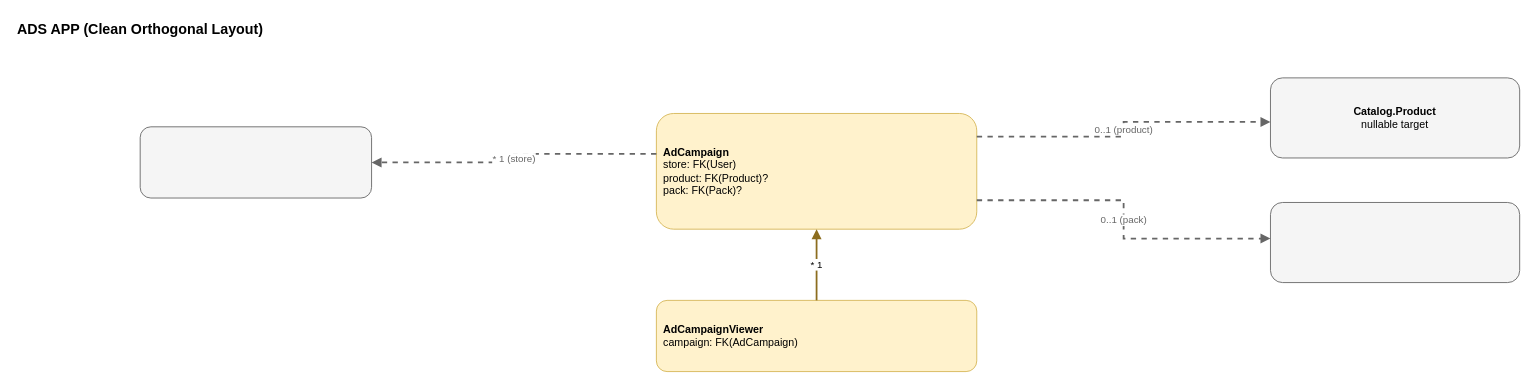
Image size: 1535x387. Some labels were removed from this diagram. Each missing label, with the centre of its shape:
Catalog.Pack nullable target: the point at 1395,242
Users.User store: the point at 255,162
